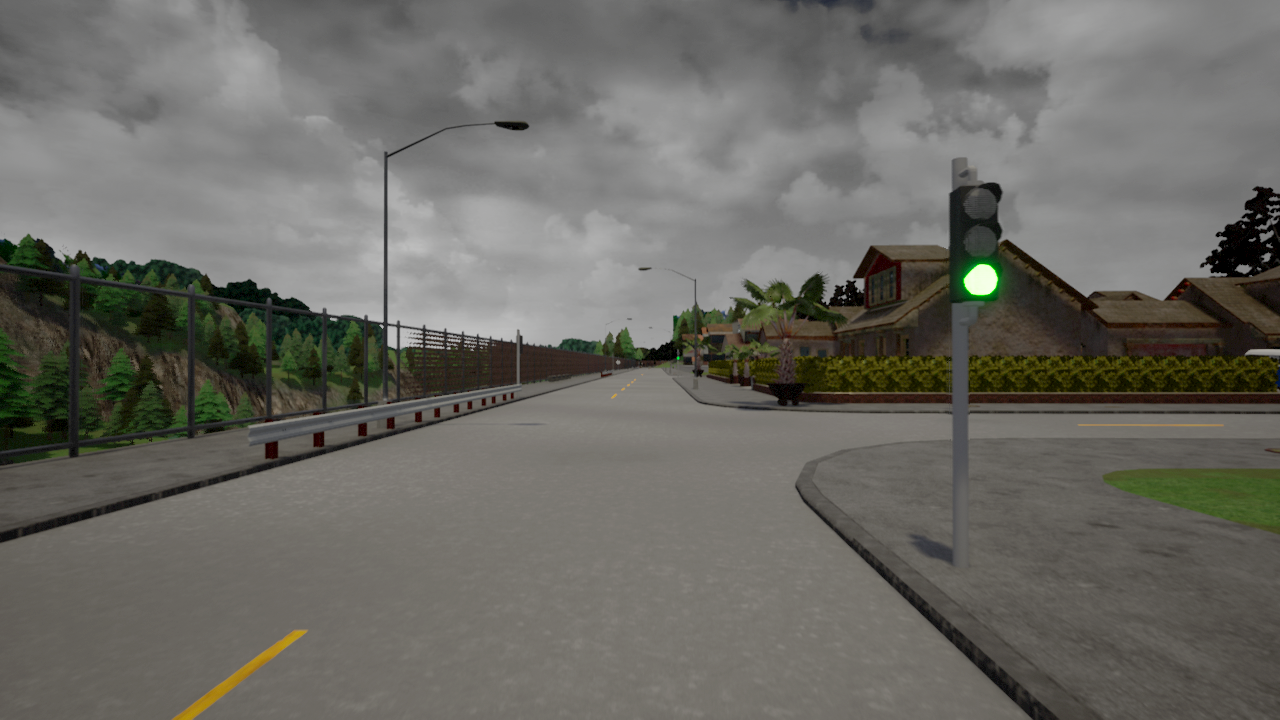green: (947, 181, 1008, 298)
